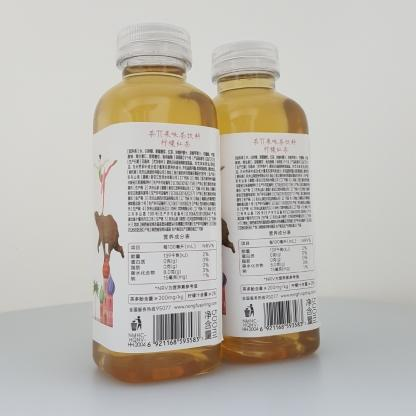------------: (92, 22, 224, 383), (201, 41, 321, 364)
